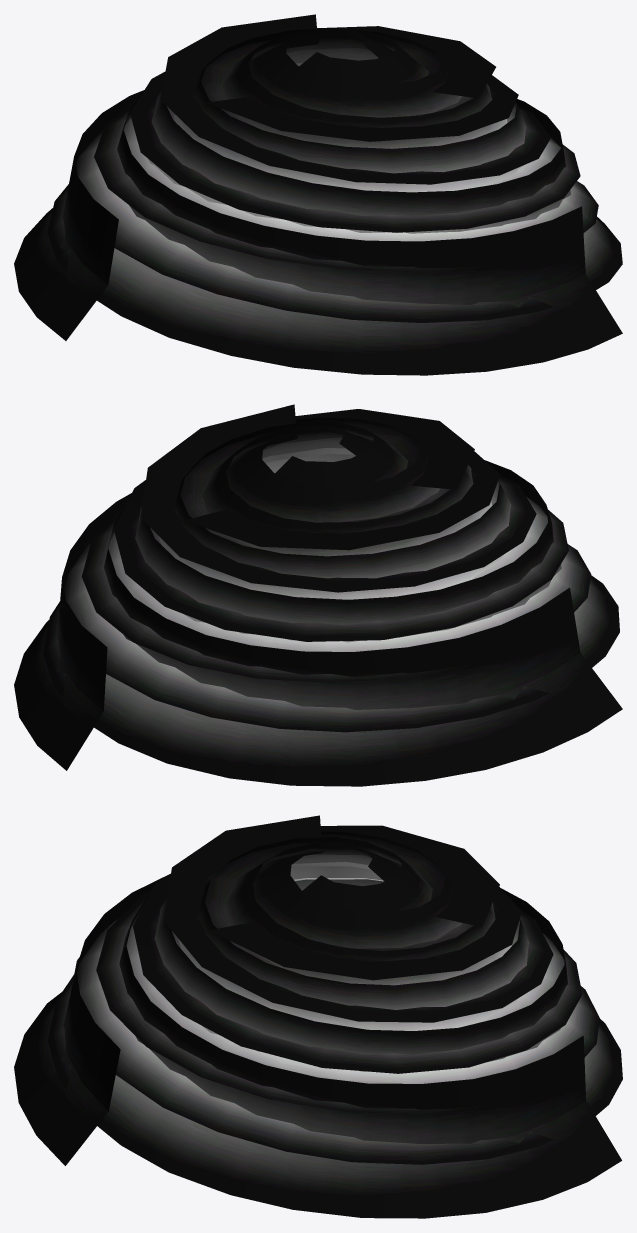
File: vfx_kurp_0568.dae
The picture shows the model from 3 angles, top to bottom: view 1: azimuth 30°, elevation 25°; view 2: azimuth 150°, elevation 25°; view 3: azimuth 270°, elevation 25°; orthographic projection.
Visible parts, largest first — view 1: vfx_kurp_0568; view 2: vfx_kurp_0568; view 3: vfx_kurp_0568.
Boxes of the visible parts, box(x1,y1,x2,y2) form: vfx_kurp_0568: box(14, 14, 622, 375); vfx_kurp_0568: box(14, 404, 622, 786); vfx_kurp_0568: box(14, 815, 622, 1218).
Size of the model in its own units: 8.75 by 8.51 by 3.84.
1 material, 1 textured.
